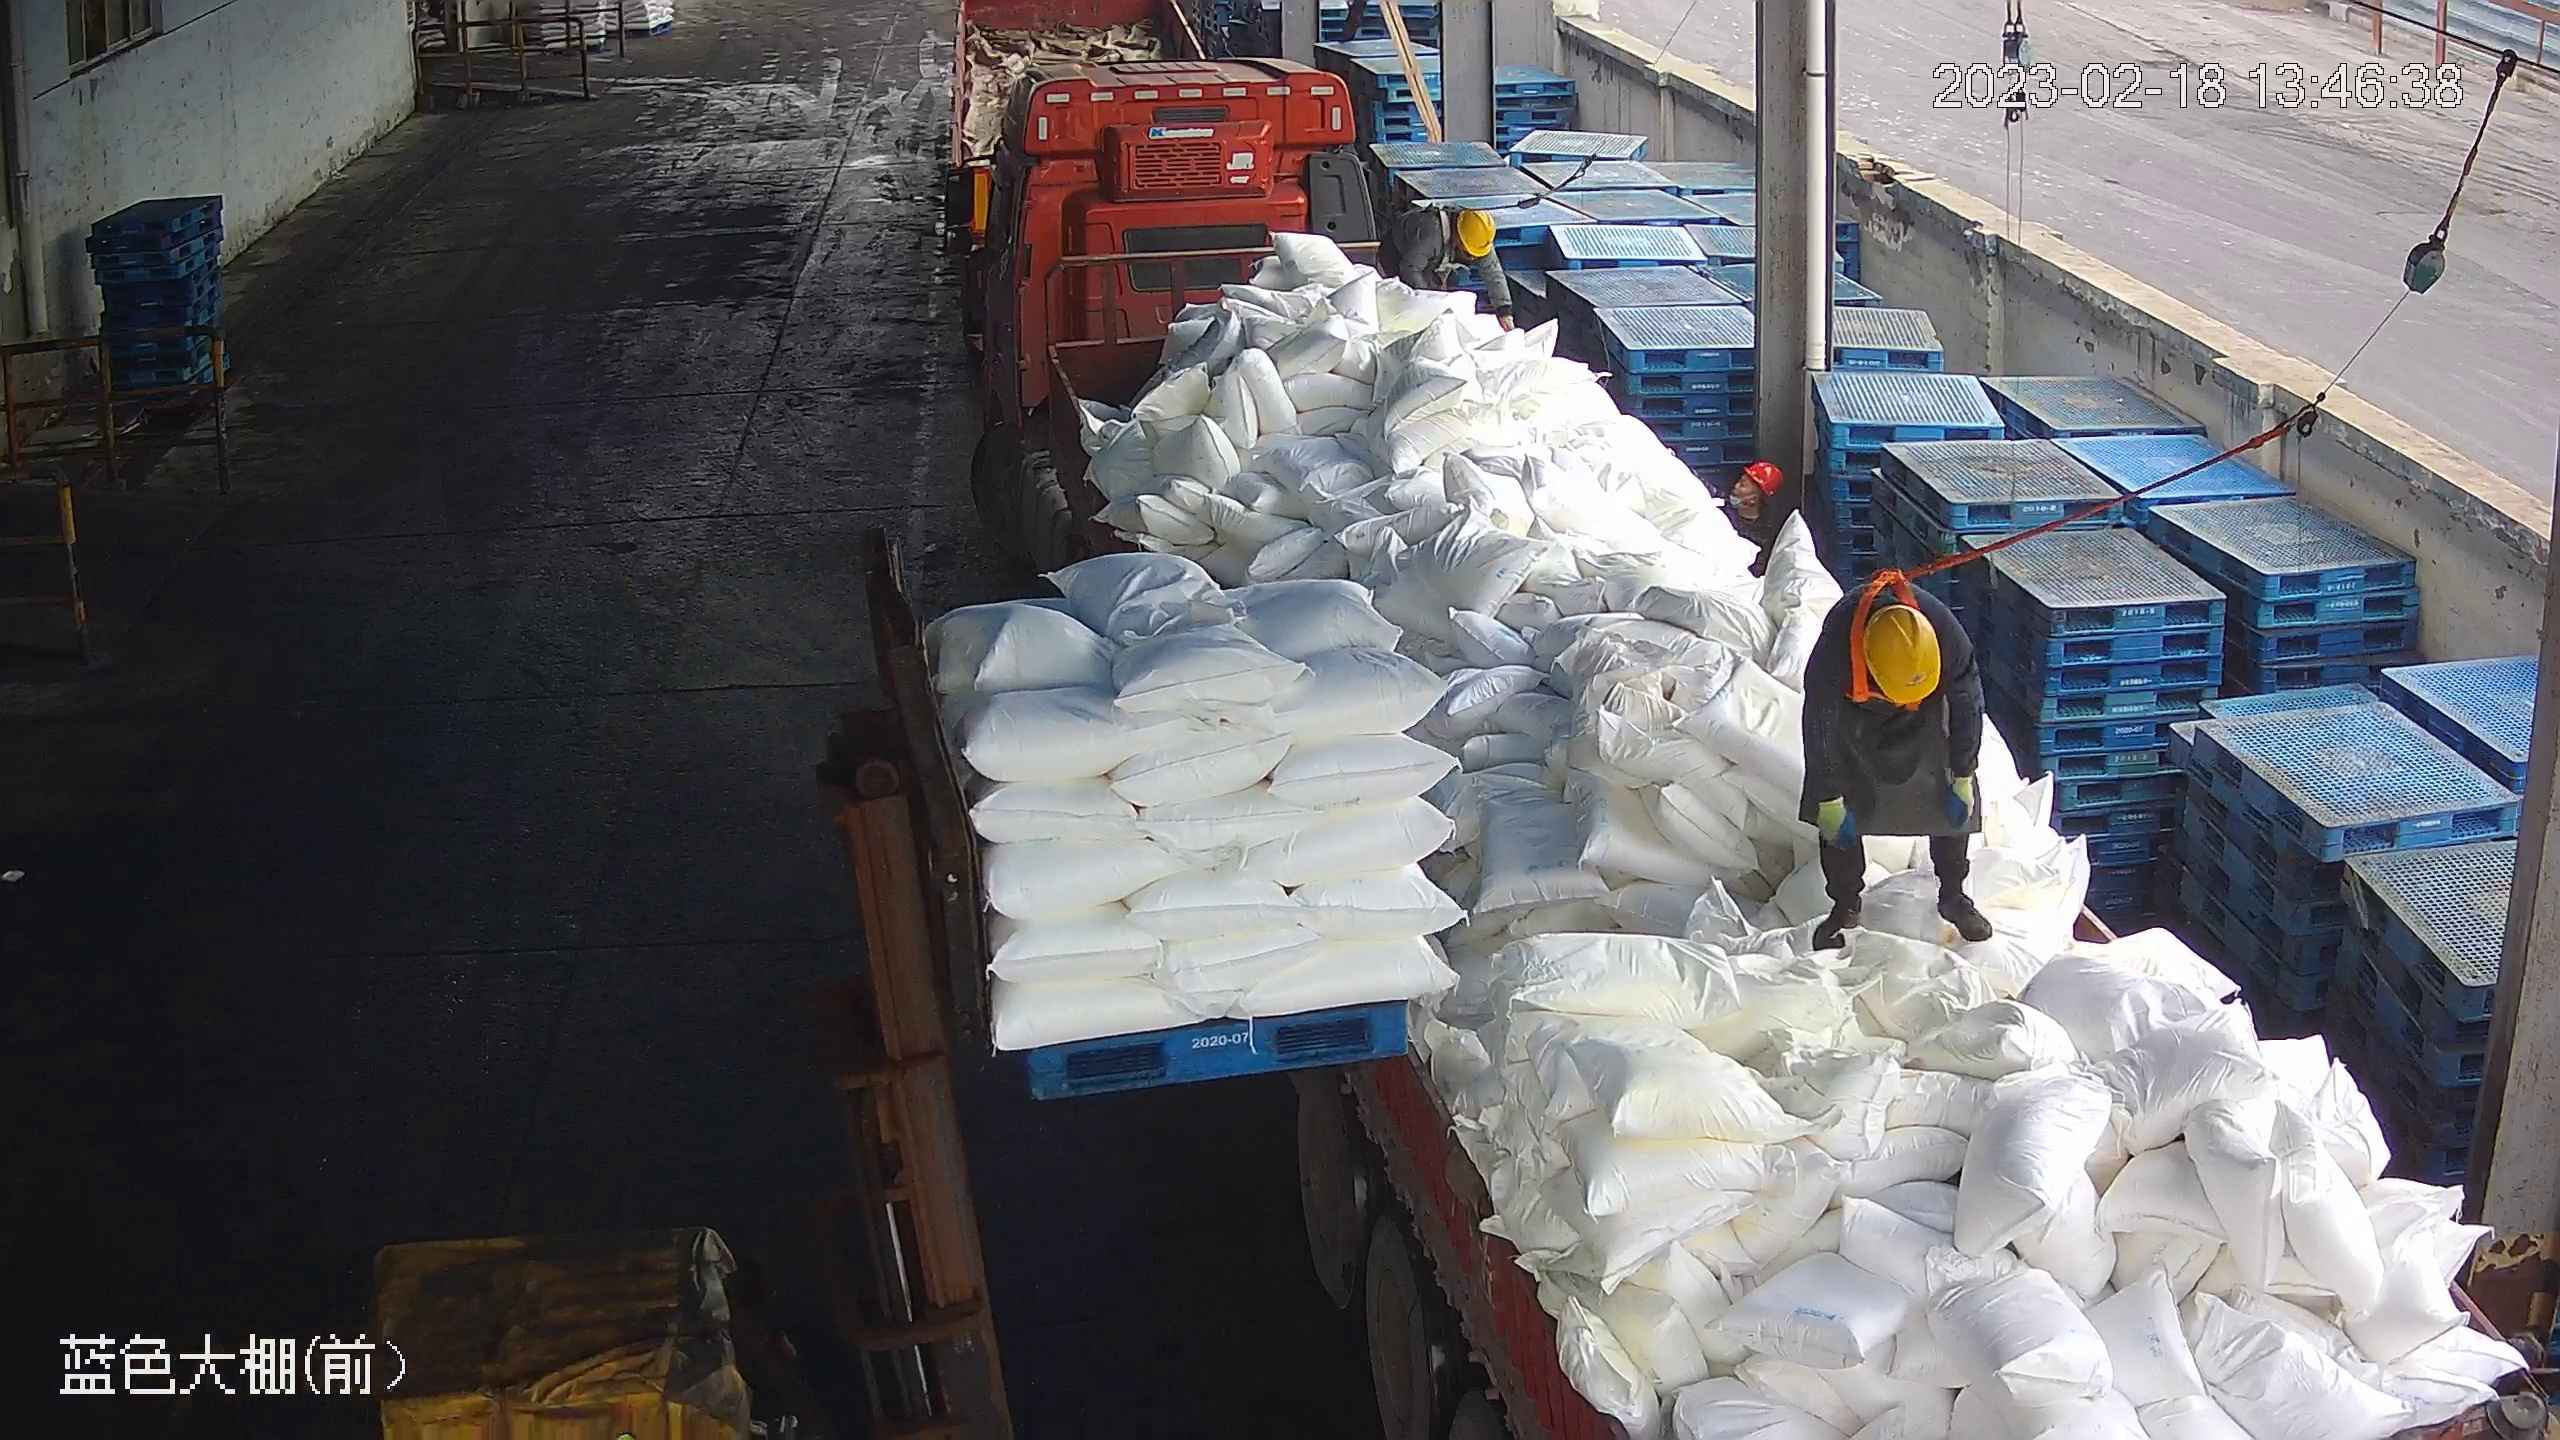belt: (1853, 560, 1943, 673)
head: (1815, 582, 1978, 723), (1411, 205, 1505, 273)
helmet: (1851, 588, 1949, 709), (1739, 458, 1783, 507), (1455, 207, 1500, 257)
people: (1794, 580, 1998, 954)
truck: (944, 45, 2553, 1440)
